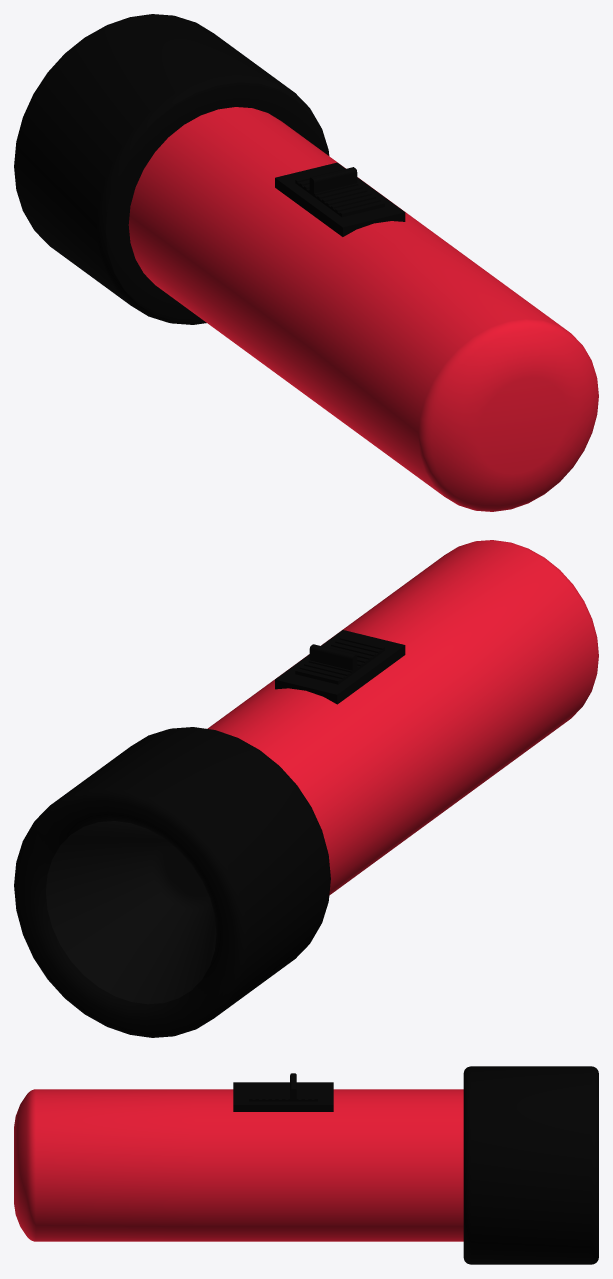
The model's file is flashlight.fbx.
3 renders of one model, top to bottom at view 1: azimuth 30°, elevation 25°; view 2: azimuth 150°, elevation 25°; view 3: azimuth 270°, elevation 25°, orthographic. The views are drawn at different scales.
Visible parts, largest first — view 1: flashlight; view 2: flashlight; view 3: flashlight.
Part boxes in pixels (x1=…): flashlight: x1=14, y1=14, x2=598, y2=511; flashlight: x1=14, y1=540, x2=598, y2=1037; flashlight: x1=14, y1=1066, x2=598, y2=1264.
Size of the model in its own units: 34.35 by 34.35 by 101.
